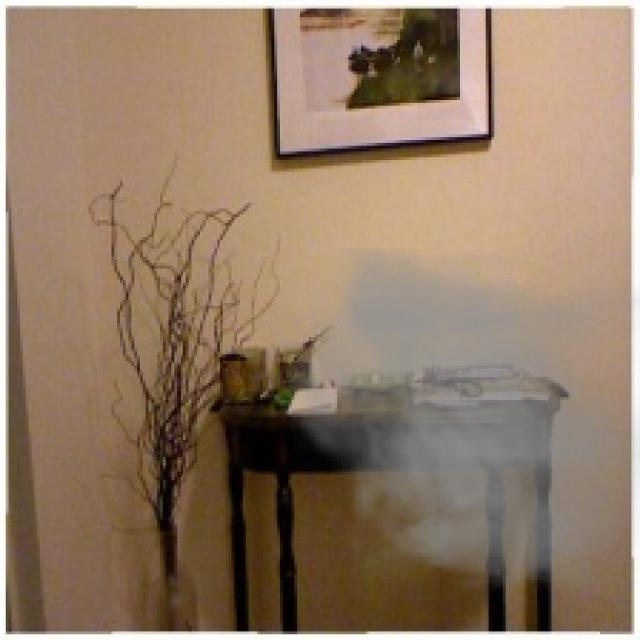smoke: (269, 249, 637, 594)
